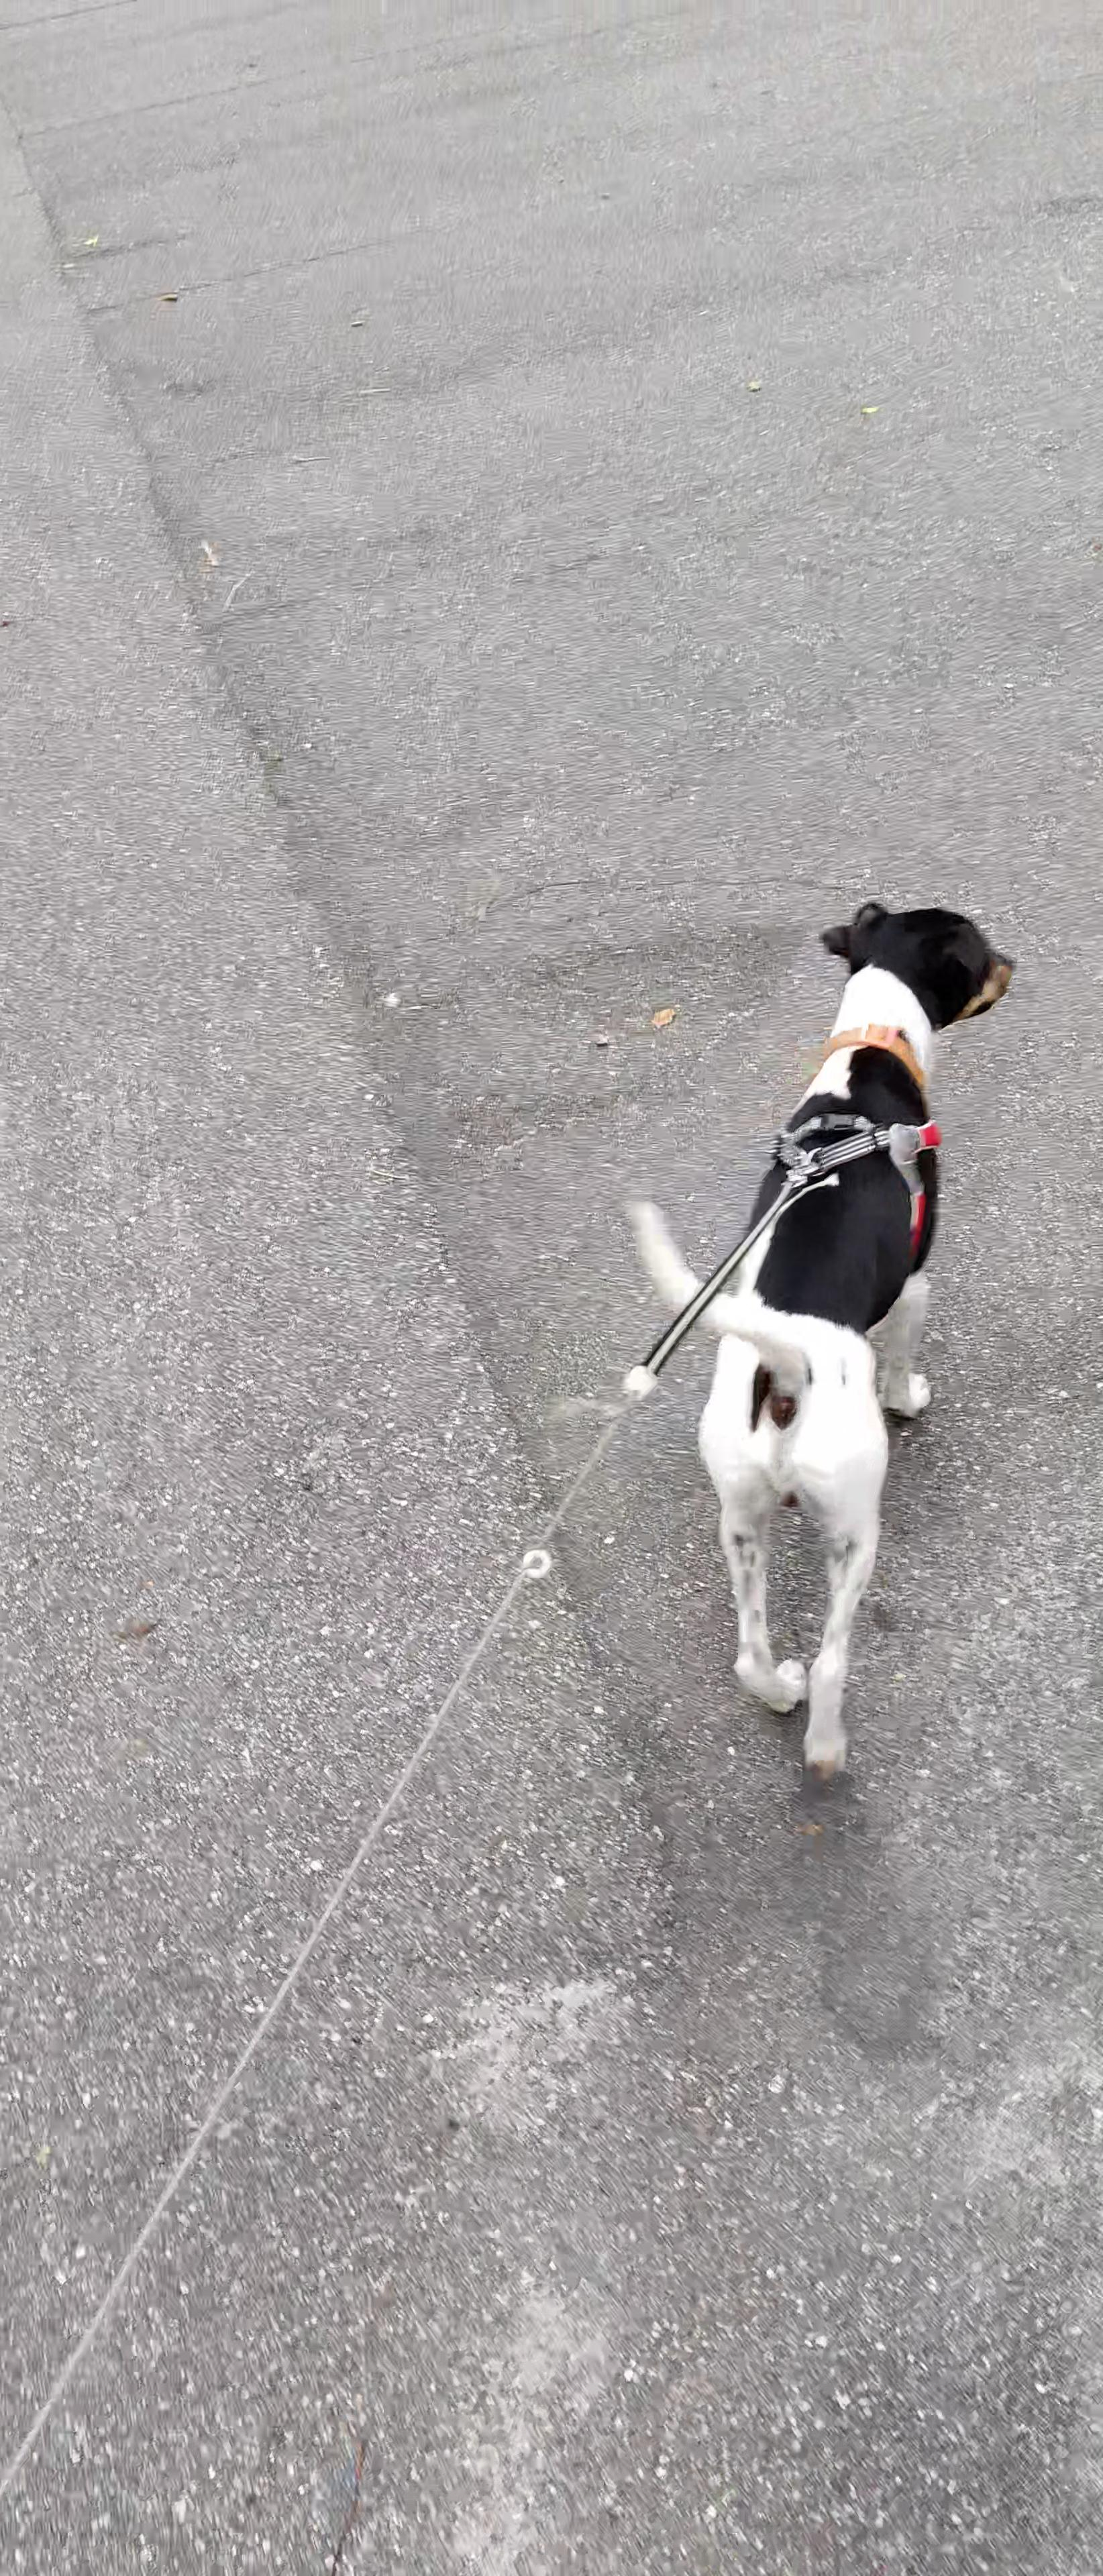Dog: (608, 853, 1029, 1787)
